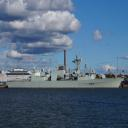Fragata: (6, 50, 125, 91)
